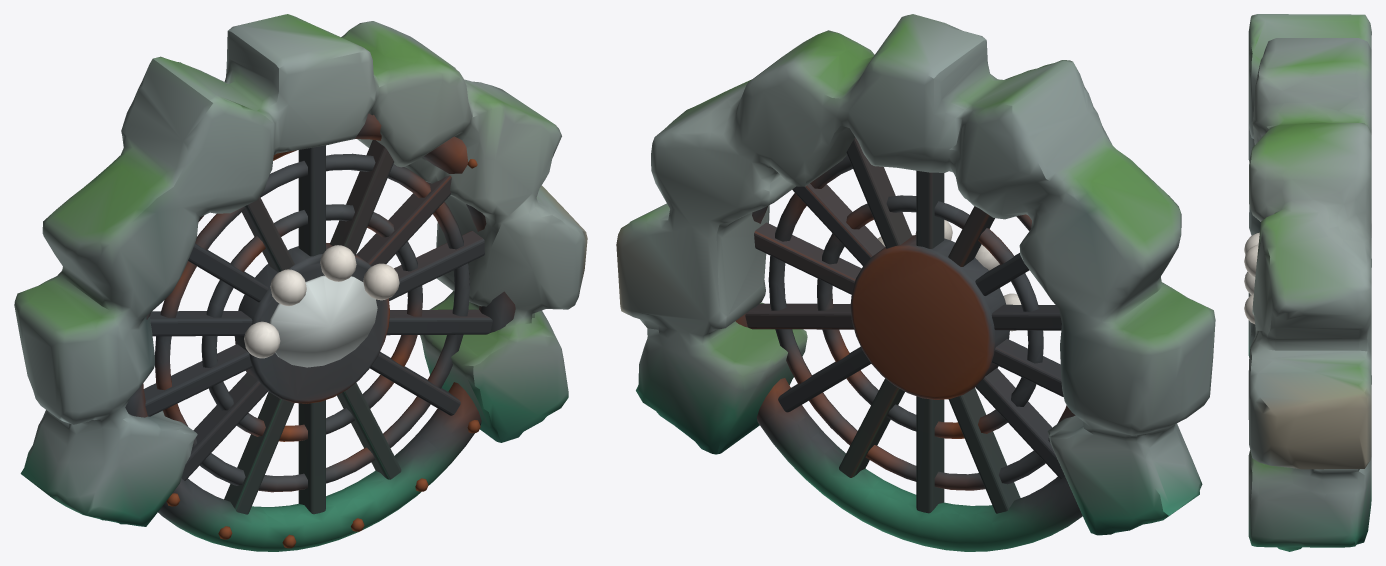
File: grotto_pearl_seal.glb
3 views of the same model, side by side, from view 1: azimuth 30°, elevation 25°; view 2: azimuth 150°, elevation 25°; view 3: azimuth 270°, elevation 25° (orthographic). The views are drawn at different scales.
Visible parts, largest first — view 1: grotto_pearl_seal; view 2: grotto_pearl_seal; view 3: grotto_pearl_seal.
Boxes of the visible parts, x1=… form: grotto_pearl_seal: x1=14, y1=14, x2=587, y2=551; grotto_pearl_seal: x1=616, y1=14, x2=1215, y2=551; grotto_pearl_seal: x1=1244, y1=14, x2=1371, y2=551.
Size of the model in its own units: 11.46 by 10.22 by 2.49.
